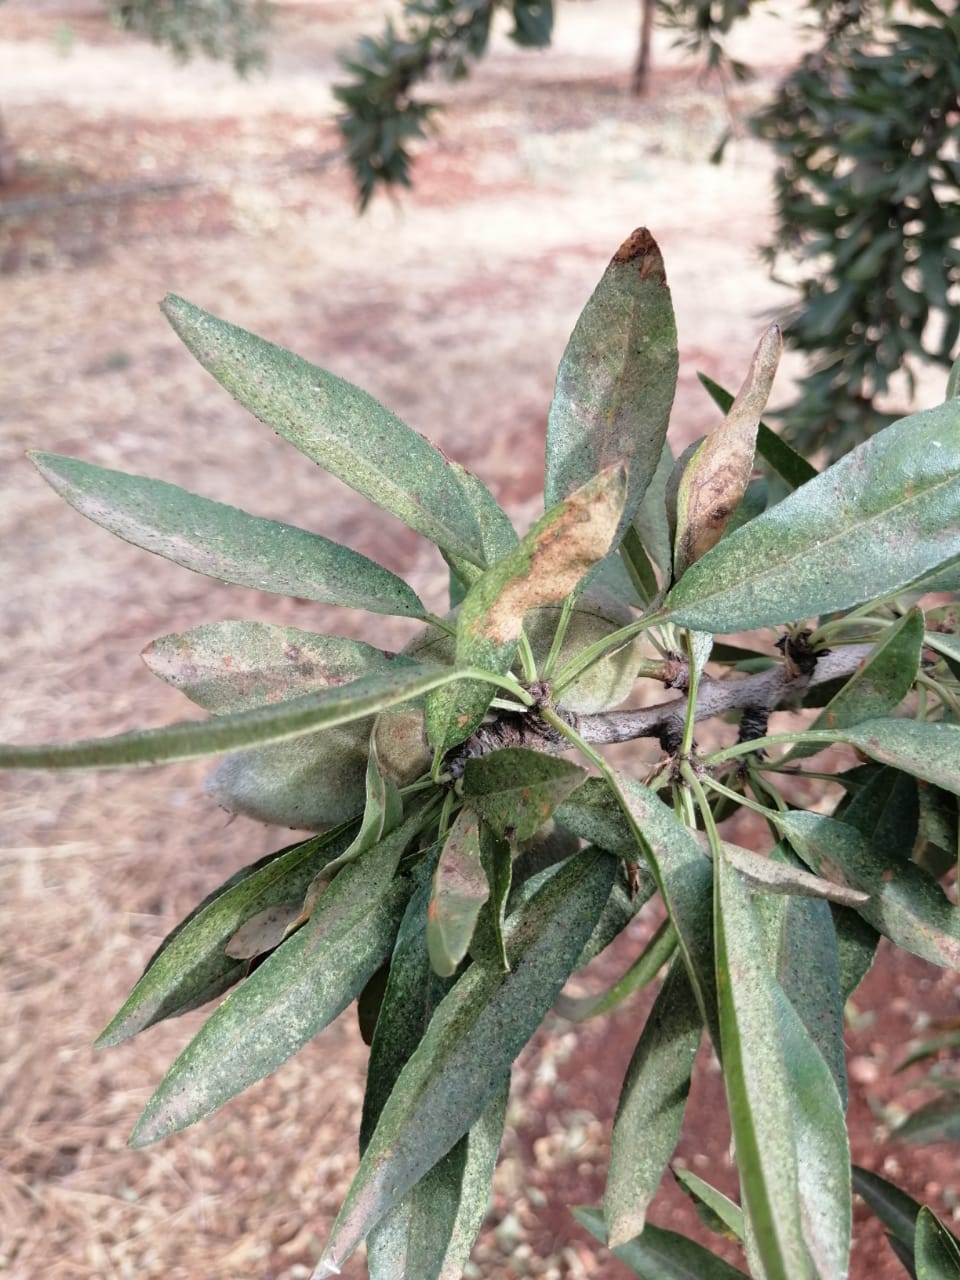acariens: (309, 841, 619, 1280), (159, 291, 487, 568), (125, 864, 409, 1150), (651, 392, 960, 637), (25, 440, 434, 617), (715, 837, 855, 1280), (544, 222, 680, 596)
